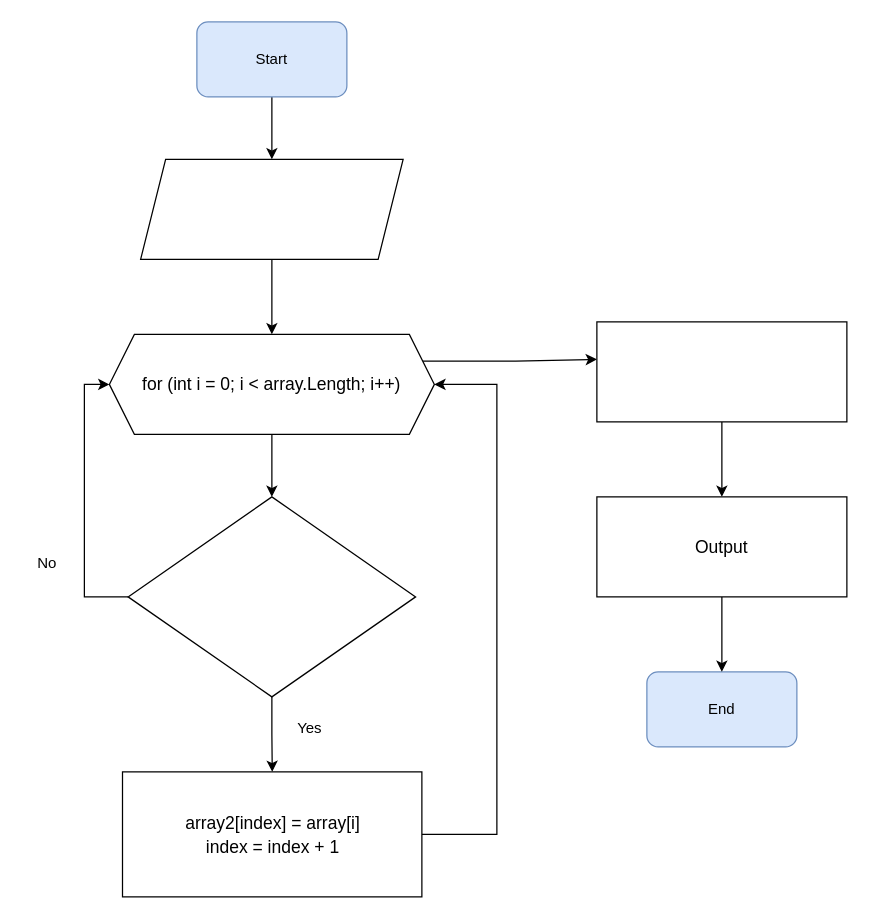
Some shapes in this 869 by 919 pixel diagram are drawn without their labels. The shapes that lost their labels are listed below. From the top down, each one's centre as x and y in pixels, then its label:
At point 271,208: "string[] array string[] array2 int index = 0".
At point 721,371: "Array.Resize(ref array2, index)".
At point 271,596: "if (array[i].Length <= 3)".
